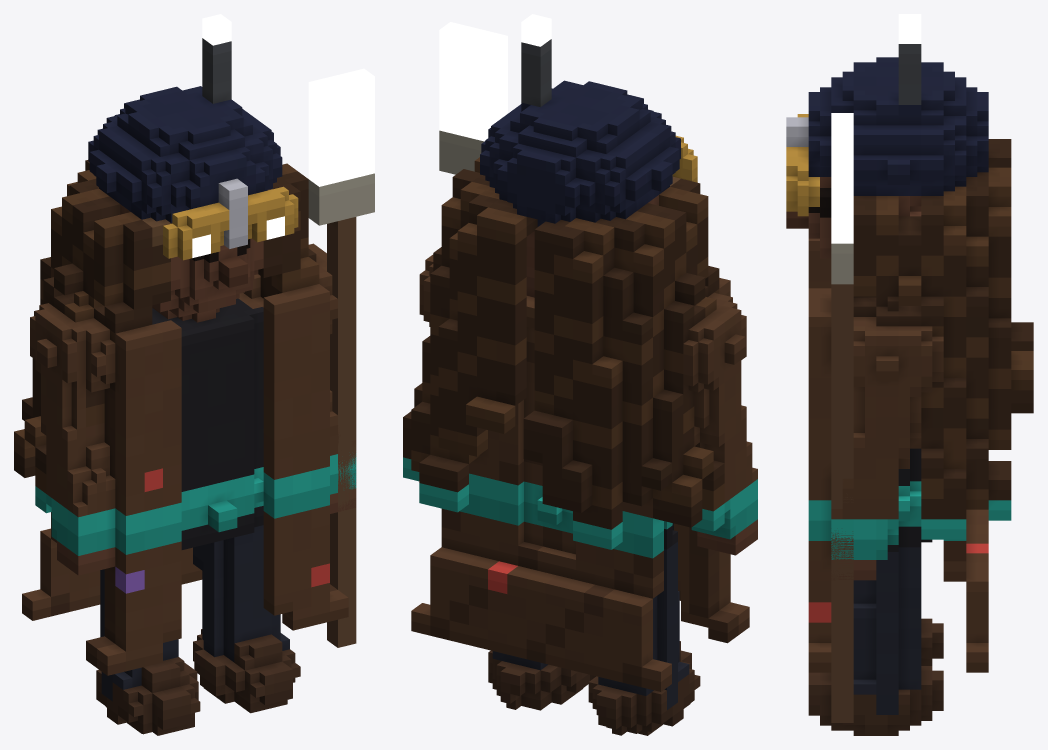
The model's file is u_tidiane__artificier.glb.
3 renders of one model, left to right at view 1: azimuth 30°, elevation 25°; view 2: azimuth 150°, elevation 25°; view 3: azimuth 270°, elevation 25°, orthographic. The views are drawn at different scales.
Visible parts, largest first — view 1: tidiane_body, tidiane_weapon, tidiane_weaponglow, tidiane_glow; view 2: tidiane_body, tidiane_weaponglow, tidiane_weapon, tidiane_glow; view 3: tidiane_body, tidiane_weapon, tidiane_weaponglow, tidiane_glow.
Boxes of the visible parts, box(x1,y1,x2,y2) form: tidiane_body: box(14, 38, 356, 735); tidiane_weapon: box(308, 173, 374, 647); tidiane_weaponglow: box(308, 68, 374, 186); tidiane_glow: box(192, 14, 284, 257); tidiane_body: box(403, 39, 757, 735); tidiane_weaponglow: box(439, 22, 507, 141); tidiane_weapon: box(439, 130, 484, 174); tidiane_glow: box(521, 14, 551, 46); tidiane_body: box(786, 44, 1033, 735); tidiane_weapon: box(831, 243, 853, 722); tidiane_weaponglow: box(831, 113, 853, 243); tidiane_glow: box(898, 14, 921, 43).
Size of the model in its own units: 0.825 by 1.72 by 0.55.
